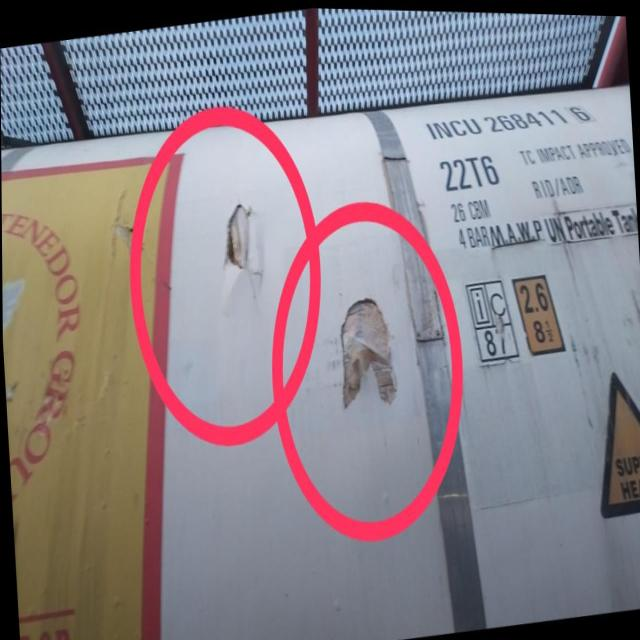hole: (337, 290, 397, 411), (221, 197, 261, 285), (120, 219, 134, 240)
